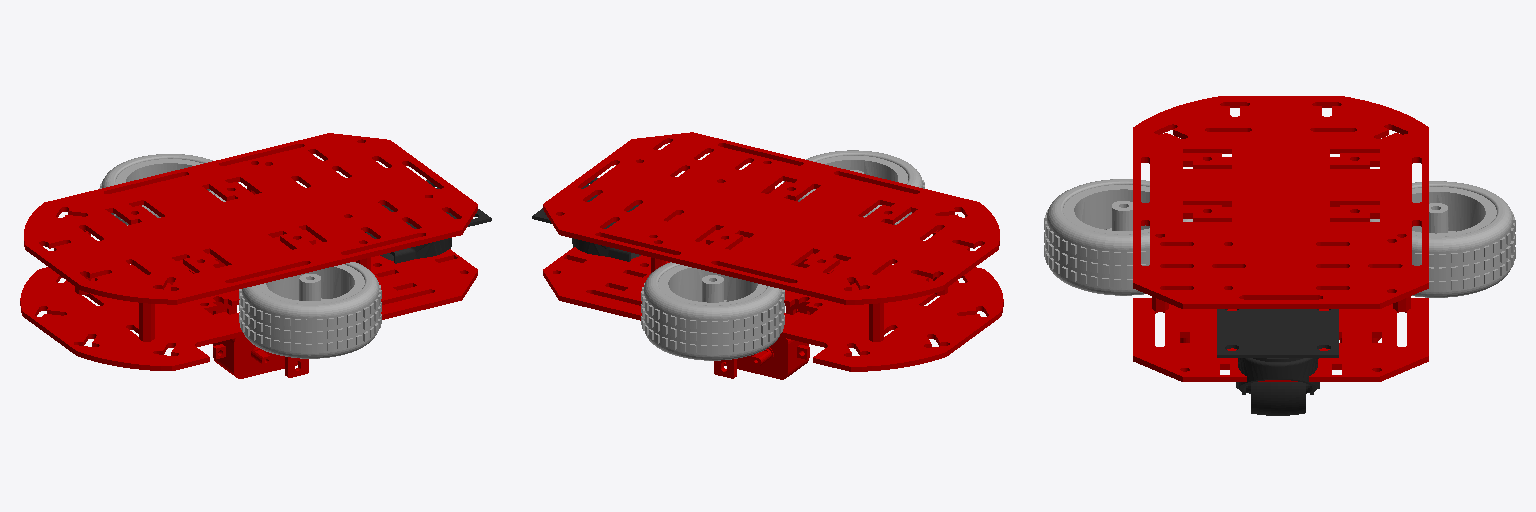
The robot description file, URDF, robot "my_robot":
<?xml version="1.0" ?>
<!-- =================================================================================== -->
<!-- |    This document was autogenerated by xacro from my_robot.xacro                 | -->
<!-- |    EDITING THIS FILE BY HAND IS NOT RECOMMENDED                                 | -->
<!-- =================================================================================== -->
<!--
	http://www.generationrobots.com/blog/en/2015/02/robotic-simulation-scenarios-with-gazebo-and-ros/#create your own robot model
	
	#######################################################

    To run:
    $ roslaunch my_robot_gazebo my_robot_world.launch paused:=true

    $ rosrun turtlebot_teleop turtlebot_teleop_key /turtlebot_teleop/cmd_vel:=/my_robot/cmd_vel

-->
<robot name="my_robot" xmlns:xacro="http://www.ros.org/wiki/xacro">
  <!--xacro:property name="cameraSize" value="0.05"/>
	<xacro:property name="cameraMass" value="0.1"/-->
  <material name="black">
    <color rgba="0.0 0.0 0.0 1.0"/>
  </material>
  <material name="blue">
    <color rgba="0.0 0.0 0.8 1.0"/>
  </material>
  <material name="green">
    <color rgba="0.0 0.8 0.0 1.0"/>
  </material>
  <material name="grey">
    <color rgba="0.2 0.2 0.2 1.0"/>
  </material>
  <material name="light_grey">
    <color rgba="0.6 0.6 0.6 1"/>
  </material>
  <material name="dark_grey">
    <color rgba="0.3 0.3 0.3 1"/>
  </material>
  <material name="orange">
    <color rgba="1.0 0.423529411765 0.0392156862745 1.0"/>
  </material>
  <material name="brown">
    <color rgba="0.870588235294 0.811764705882 0.764705882353 1.0"/>
  </material>
  <material name="red">
    <color rgba="0.8 0.0 0.0 1.0"/>
  </material>
  <material name="white">
    <color rgba="1.0 1.0 1.0 1.0"/>
  </material>
  <!-- ros_control plugin -->
  <gazebo>
    <plugin filename="libgazebo_ros_control.so" name="gazebo_ros_control">
      <robotNamespace>/my_robot</robotNamespace>
      <robotSimType>gazebo_ros_control/DefaultRobotHWSim</robotSimType>
    </plugin>
  </gazebo>
  <!--
    The plugin broadcasts a body's pose and rates through ROS nav_msgs::Odometry message.
    The plugin broadcasts pose and rate of a body named "chassis" over ROS topic name "my_robot/odom".
  -->
  <gazebo>
    <plugin filename="libgazebo_ros_p3d.so" name="ground_truth">
      <frameName>map</frameName>
      <bodyName>chassis</bodyName>
      <topicName>my_robot/odom</topicName>
      <updateRate>30.0</updateRate>
    </plugin>
  </gazebo>
  <!-- Chassis -->
  <gazebo reference="chassis">
    <material>Gazebo/Orange</material>
  </gazebo>
  <!-- Caster wheel -->
  <gazebo reference="caster_wheel">
    <mu1>0.0</mu1>
    <mu2>0.0</mu2>
    <material>Gazebo/Grey</material>
  </gazebo>
  <gazebo>
    <plugin filename="libgazebo_ros_diff_drive.so" name="differential_drive_controller">
      <alwaysOn>true</alwaysOn>
      <updateRate>100</updateRate>
      <leftJoint>left_wheel_hinge</leftJoint>
      <rightJoint>right_wheel_hinge</rightJoint>
      <wheelSeparation>0.025</wheelSeparation>
      <wheelDiameter>0.064</wheelDiameter>
      <torque>20</torque>
      <!--torque>2</torque-->
      <commandTopic>my_robot/cmd_vel</commandTopic>
      <odometryTopic>my_robot/odom_diffdrive</odometryTopic>
      <odometryFrame>odom</odometryFrame>
      <robotBaseFrame>world</robotBaseFrame>
      <legacyMode>true</legacyMode>
      <rosDebugLevel>na</rosDebugLevel>
      <publishWheelTF>true</publishWheelTF>
      <publishWheelJointState>true</publishWheelJointState>
      <wheelAcceleration>0</wheelAcceleration>
      <wheelTorque>50</wheelTorque>
      <publishTf>1</publishTf>
      <odometrySource>world</odometrySource>
    </plugin>
  </gazebo>
  <!-- Used for fixing robot to Gazebo 'chassis' -->
  <link name="world"/>
  <joint name="base_joint" type="fixed">
    <parent link="world"/>
    <child link="chassis"/>
  </joint>
  <link name="chassis">
    <collision>
      <origin rpy="0 0 0" xyz="0 0 0.032"/>
      <geometry>
        <!--box size="${chassisLength} 
						   ${chassisWidth} 
						   ${chassisHeight}"/-->
        <mesh filename="package://my_robot_description/meshes/chassis.dae"/>
      </geometry>
    </collision>
    <visual>
      <origin rpy="0 0 0" xyz="0 0 0.032"/>
      <geometry>
        <mesh filename="package://my_robot_description/meshes/chassis.dae"/>
      </geometry>
      <material name="red"/>
    </visual>
    <inertial>
      <origin rpy="0 0 0" xyz="0 0 0.032"/>
      <mass value="0.15"/>
      <inertia ixx="0.000225528625" ixy="0" ixz="0" iyy="0.000538566125" iyz="0" izz="0.000538566125"/>
    </inertial>
  </link>
  <joint name="caster_joint" type="fixed">
    <parent link="chassis"/>
    <child link="caster_wheel"/>
  </joint>
  <link name="caster_wheel">
    <collision>
      <origin rpy="0 0 0" xyz="0.091 0 0.033"/>
      <geometry>
        <!--sphere radius="${casterRadius}"/-->
        <mesh filename="package://my_robot_description/meshes/caster_wheel.dae"/>
      </geometry>
    </collision>
    <visual>
      <origin rpy="0 0 0" xyz="0.091 0 0.033"/>
      <geometry>
        <mesh filename="package://my_robot_description/meshes/caster_wheel.dae"/>
      </geometry>
      <material name="grey"/>
    </visual>
    <inertial>
      <origin rpy="0 0 0" xyz="0.091 0 0.033"/>
      <mass value="0.09"/>
      <inertia ixx="9.801e-06" ixy="0" ixz="0" iyy="9.801e-06" iyz="0" izz="9.801e-06"/>
    </inertial>
  </link>
  <link name="left_wheel">
    <collision>
      <origin rpy="0 0 0" xyz="0 0 0"/>
      <geometry>
        <!--cylinder 
            length="${wheelWidth}" 
            radius="${wheelRadius}"/-->
        <mesh filename="package://my_robot_description/meshes/left_wheel.dae"/>
      </geometry>
    </collision>
    <visual>
      <origin rpy="0 0 0" xyz="0 0 0"/>
      <geometry>
        <mesh filename="package://my_robot_description/meshes/left_wheel.dae"/>
      </geometry>
    </visual>
    <inertial>
      <origin rpy="-1.57079632679 0 0" xyz="0 0 0"/>
      <mass value="0.05"/>
      <inertia ixx="1.56166666667e-05" ixy="0" ixz="0" iyy="1.56166666667e-05" iyz="0" izz="2.56e-05"/>
    </inertial>
  </link>
  <gazebo reference="left_wheel">
    <mu1 value="1.0"/>
    <mu2 value="1.0"/>
    <kp value="10000000.0"/>
    <kd value="1.0"/>
    <fdir1 value="1 0 0"/>
    <material>Gazebo/White</material>
  </gazebo>
  <joint name="left_wheel_hinge" type="continuous">
    <parent link="chassis"/>
    <child link="left_wheel"/>
    <origin rpy="0 0 0" xyz="0 0.063 0.032"/>
    <axis rpy="0 0 0" xyz="0 1 0"/>
    <limit effort="100" velocity="10"/>
    <!--limit effort="10" velocity="10"/-->
    <joint_properties damping="0.0" friction="0.0"/>
  </joint>
  <!--
  http://gazebosim.org/tutorials/?tut=ros_control
-->
  <transmission name="left_trans">
    <type>transmission_interface/SimpleTransmission</type>
    <joint name="left_wheel_hinge">
      <hardwareInterface>hardware_interface/EffortJointInterface</hardwareInterface>
    </joint>
    <actuator name="leftMotor">
      <hardwareInterface>hardware_interface/EffortJointInterface</hardwareInterface>
      <mechanicalReduction>10</mechanicalReduction>
      <!--mechanicalReduction>1</mechanicalReduction-->
    </actuator>
  </transmission>
  <link name="right_wheel">
    <collision>
      <origin rpy="0 0 0" xyz="0 0 0"/>
      <geometry>
        <!--cylinder 
            length="${wheelWidth}" 
            radius="${wheelRadius}"/-->
        <mesh filename="package://my_robot_description/meshes/right_wheel.dae"/>
      </geometry>
    </collision>
    <visual>
      <origin rpy="0 0 0" xyz="0 0 0"/>
      <geometry>
        <mesh filename="package://my_robot_description/meshes/right_wheel.dae"/>
      </geometry>
    </visual>
    <inertial>
      <origin rpy="1.57079632679 0 0" xyz="0 0 0"/>
      <mass value="0.05"/>
      <inertia ixx="1.56166666667e-05" ixy="0" ixz="0" iyy="1.56166666667e-05" iyz="0" izz="2.56e-05"/>
    </inertial>
  </link>
  <gazebo reference="right_wheel">
    <mu1 value="1.0"/>
    <mu2 value="1.0"/>
    <kp value="10000000.0"/>
    <kd value="1.0"/>
    <fdir1 value="1 0 0"/>
    <material>Gazebo/White</material>
  </gazebo>
  <joint name="right_wheel_hinge" type="continuous">
    <parent link="chassis"/>
    <child link="right_wheel"/>
    <origin rpy="0 0 0" xyz="0 -0.063 0.032"/>
    <axis rpy="0 0 0" xyz="0 1 0"/>
    <limit effort="100" velocity="10"/>
    <!--limit effort="10" velocity="10"/-->
    <joint_properties damping="0.0" friction="0.0"/>
  </joint>
  <!--
  http://gazebosim.org/tutorials/?tut=ros_control
-->
  <transmission name="right_trans">
    <type>transmission_interface/SimpleTransmission</type>
    <joint name="right_wheel_hinge">
      <hardwareInterface>hardware_interface/EffortJointInterface</hardwareInterface>
    </joint>
    <actuator name="rightMotor">
      <hardwareInterface>hardware_interface/EffortJointInterface</hardwareInterface>
      <mechanicalReduction>10</mechanicalReduction>
      <!--mechanicalReduction>1</mechanicalReduction-->
    </actuator>
  </transmission>
  <!--joint name="camera_joint" type="fixed">
		<origin xyz="${-cameraSize+chassisLength/2} 0 ${cameraSize+wheelRadius+cameraSize/2}" rpy="0 0 0"/>
		<parent link="chassis"/>
		<child link="camera"/>
	</joint>

	<link name="camera">
		<collision>
			<origin xyz="0 0 0" rpy="0 0 0"/>
			<geometry>
				<box size="${cameraSize} 
						   ${cameraSize} 
						   ${cameraSize}"/>
			</geometry>
		</collision>

		<visual>
			<origin xyz="0 0 0" rpy="0 0 0"/>
			<geometry>
				<box size="${cameraSize} 
						   ${cameraSize} 
						   ${cameraSize}"/>
			</geometry>
			<material name="blue"/>
		</visual>

		<inertial>
			<mass value="${cameraMass}" />
			<origin xyz="0 0 0" rpy="0 0 0"/>
			<box_inertia m="${cameraMass}" 
						 x="${cameraSize}" 
						 y="${cameraSize}" 
						 z="${cameraSize}" />
		</inertial>
	</link-->
</robot>

--- What the picture shows (computed from the rendered views, not written in the file) ---
The picture shows the robot from 3 angles, left to right: view 1: azimuth 30°, elevation 25°; view 2: azimuth 150°, elevation 25°; view 3: azimuth 270°, elevation 25°; orthographic projection.
Model my_robot with 5 links and 4 joints (2 continuous, 2 fixed), rooted at world, posed every joint at zero.
Links seen in each view (by area): view 1: chassis, right_wheel, left_wheel, caster_wheel; view 2: chassis, left_wheel, right_wheel, caster_wheel; view 3: chassis, caster_wheel, right_wheel, left_wheel.
Boxes of the visible links, bbox=[...] form: chassis: bbox=[20, 133, 477, 378]; right_wheel: bbox=[239, 262, 381, 358]; left_wheel: bbox=[99, 154, 238, 225]; caster_wheel: bbox=[365, 180, 491, 263]; chassis: bbox=[543, 132, 1003, 379]; left_wheel: bbox=[641, 262, 784, 360]; right_wheel: bbox=[783, 150, 924, 224]; caster_wheel: bbox=[532, 177, 640, 261]; chassis: bbox=[1133, 96, 1428, 381]; caster_wheel: bbox=[1217, 309, 1338, 415]; right_wheel: bbox=[1044, 179, 1192, 295]; left_wheel: bbox=[1370, 181, 1515, 297].
Bounding box of the posed robot: 0.2146 × 0.19 × 0.061 m (x, y, z).
4 mesh visuals loaded from 4 distinct referenced files (4 Collada DAE).